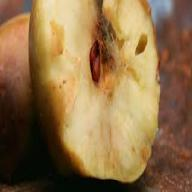apple: (28, 0, 161, 185)
